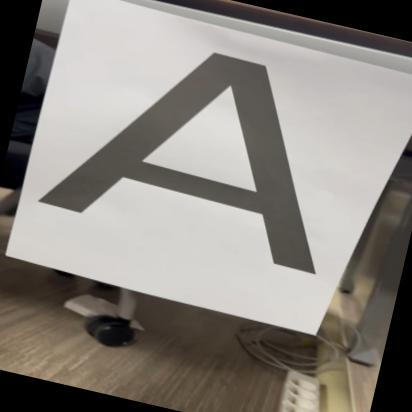seat: (35, 5, 374, 283)
